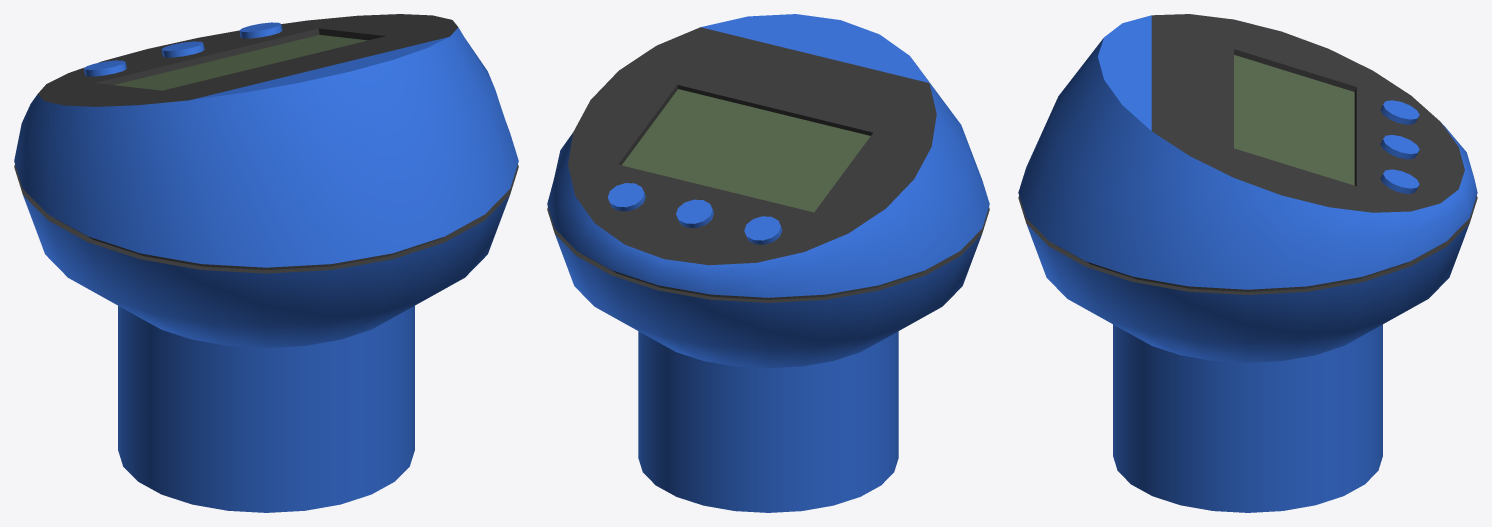
Rendered from OxiTop.fbx.
The picture shows the model from 3 angles, left to right: view 1: azimuth 30°, elevation 25°; view 2: azimuth 150°, elevation 25°; view 3: azimuth 270°, elevation 25°; orthographic projection. The views are drawn at different scales.
Visible parts, largest first — view 1: Cylinder.041; view 2: Cylinder.041; view 3: Cylinder.041.
Part boxes in pixels (<box>): Cylinder.041: <box>14,14,518,512</box>; Cylinder.041: <box>547,14,989,512</box>; Cylinder.041: <box>1018,14,1477,512</box>.
Size of the model in its own units: 5.9 by 5.67 by 5.9.
